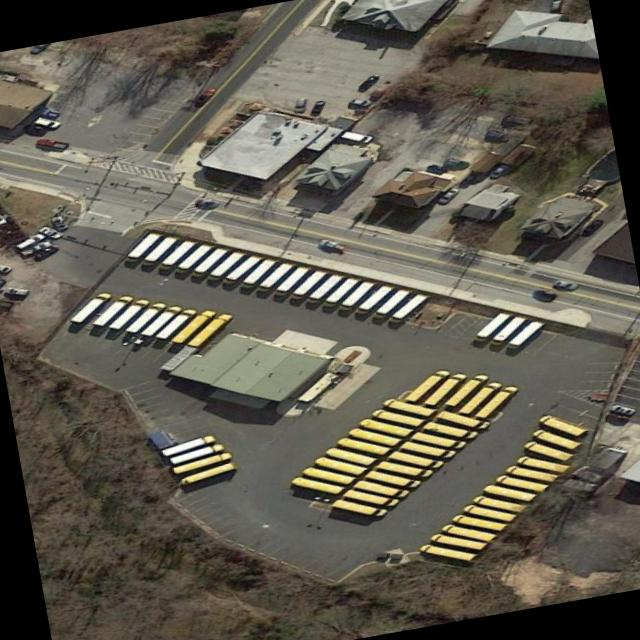large-vehicle: (170, 309, 219, 342), (186, 313, 234, 346), (405, 368, 453, 401), (422, 372, 469, 404), (444, 373, 490, 405), (475, 385, 521, 417), (458, 381, 503, 413), (68, 291, 114, 322), (91, 295, 137, 326), (124, 301, 168, 332), (155, 307, 199, 338), (160, 433, 218, 456), (180, 461, 238, 484), (173, 451, 233, 473), (107, 298, 150, 328), (141, 305, 183, 335), (188, 246, 230, 276), (205, 250, 247, 280), (353, 284, 395, 314), (155, 239, 197, 268), (254, 261, 296, 290), (386, 293, 428, 322), (272, 265, 311, 296), (139, 236, 179, 266), (320, 276, 360, 306), (335, 280, 375, 310), (421, 419, 478, 440), (371, 288, 412, 317), (173, 243, 213, 272), (238, 258, 278, 287), (288, 475, 346, 495), (343, 487, 401, 507), (365, 468, 423, 488), (287, 269, 327, 298), (304, 273, 344, 302), (487, 315, 527, 344), (381, 396, 436, 417), (170, 442, 225, 463), (435, 409, 490, 430), (357, 416, 412, 437), (537, 413, 587, 436), (523, 439, 575, 461), (124, 231, 162, 261), (335, 435, 392, 455), (504, 320, 546, 347), (530, 427, 581, 449), (221, 255, 261, 283), (323, 445, 376, 466), (330, 497, 388, 516), (387, 450, 445, 469), (409, 430, 467, 449), (312, 455, 367, 475), (346, 426, 401, 446), (399, 440, 456, 459), (374, 459, 434, 477), (472, 312, 512, 339), (428, 531, 488, 549), (418, 543, 478, 561), (471, 493, 527, 512), (461, 502, 517, 521), (441, 522, 497, 541), (303, 465, 356, 485), (352, 479, 410, 497), (450, 513, 508, 531), (372, 408, 425, 427), (496, 473, 549, 492), (481, 483, 536, 501), (516, 454, 569, 472), (505, 464, 560, 481)
small-vehicle: (30, 244, 62, 262), (18, 240, 53, 256), (340, 130, 375, 143), (482, 127, 514, 141), (18, 233, 47, 248), (357, 73, 381, 91), (193, 87, 217, 104), (435, 187, 460, 203), (36, 225, 65, 238), (37, 138, 71, 149), (502, 113, 533, 125), (441, 157, 471, 169), (319, 238, 349, 250), (607, 402, 637, 414), (33, 116, 61, 128), (5, 284, 31, 295), (50, 214, 69, 229), (348, 96, 372, 107), (553, 280, 580, 289), (491, 164, 509, 177), (198, 199, 223, 208), (310, 101, 324, 113), (294, 97, 306, 111), (549, 0, 563, 11), (0, 211, 9, 224), (0, 264, 12, 271)
